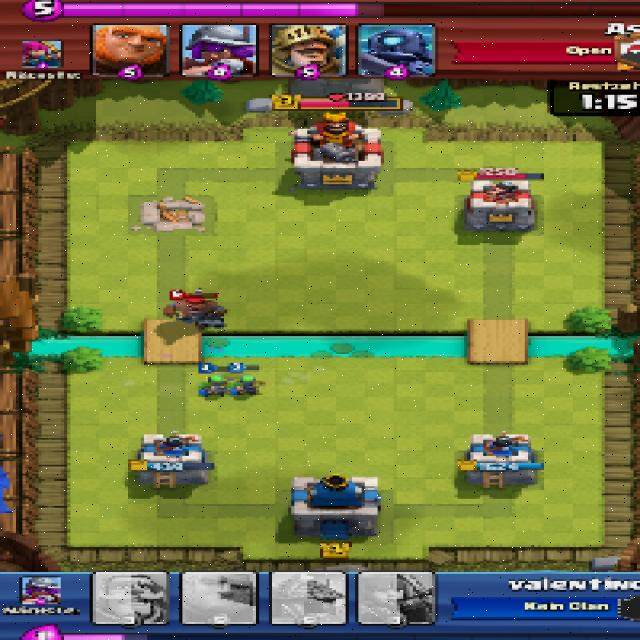Enemy-Hunter: (165, 296, 233, 336)
Player-SpearGoblin: (233, 373, 264, 398), (200, 374, 229, 399)
